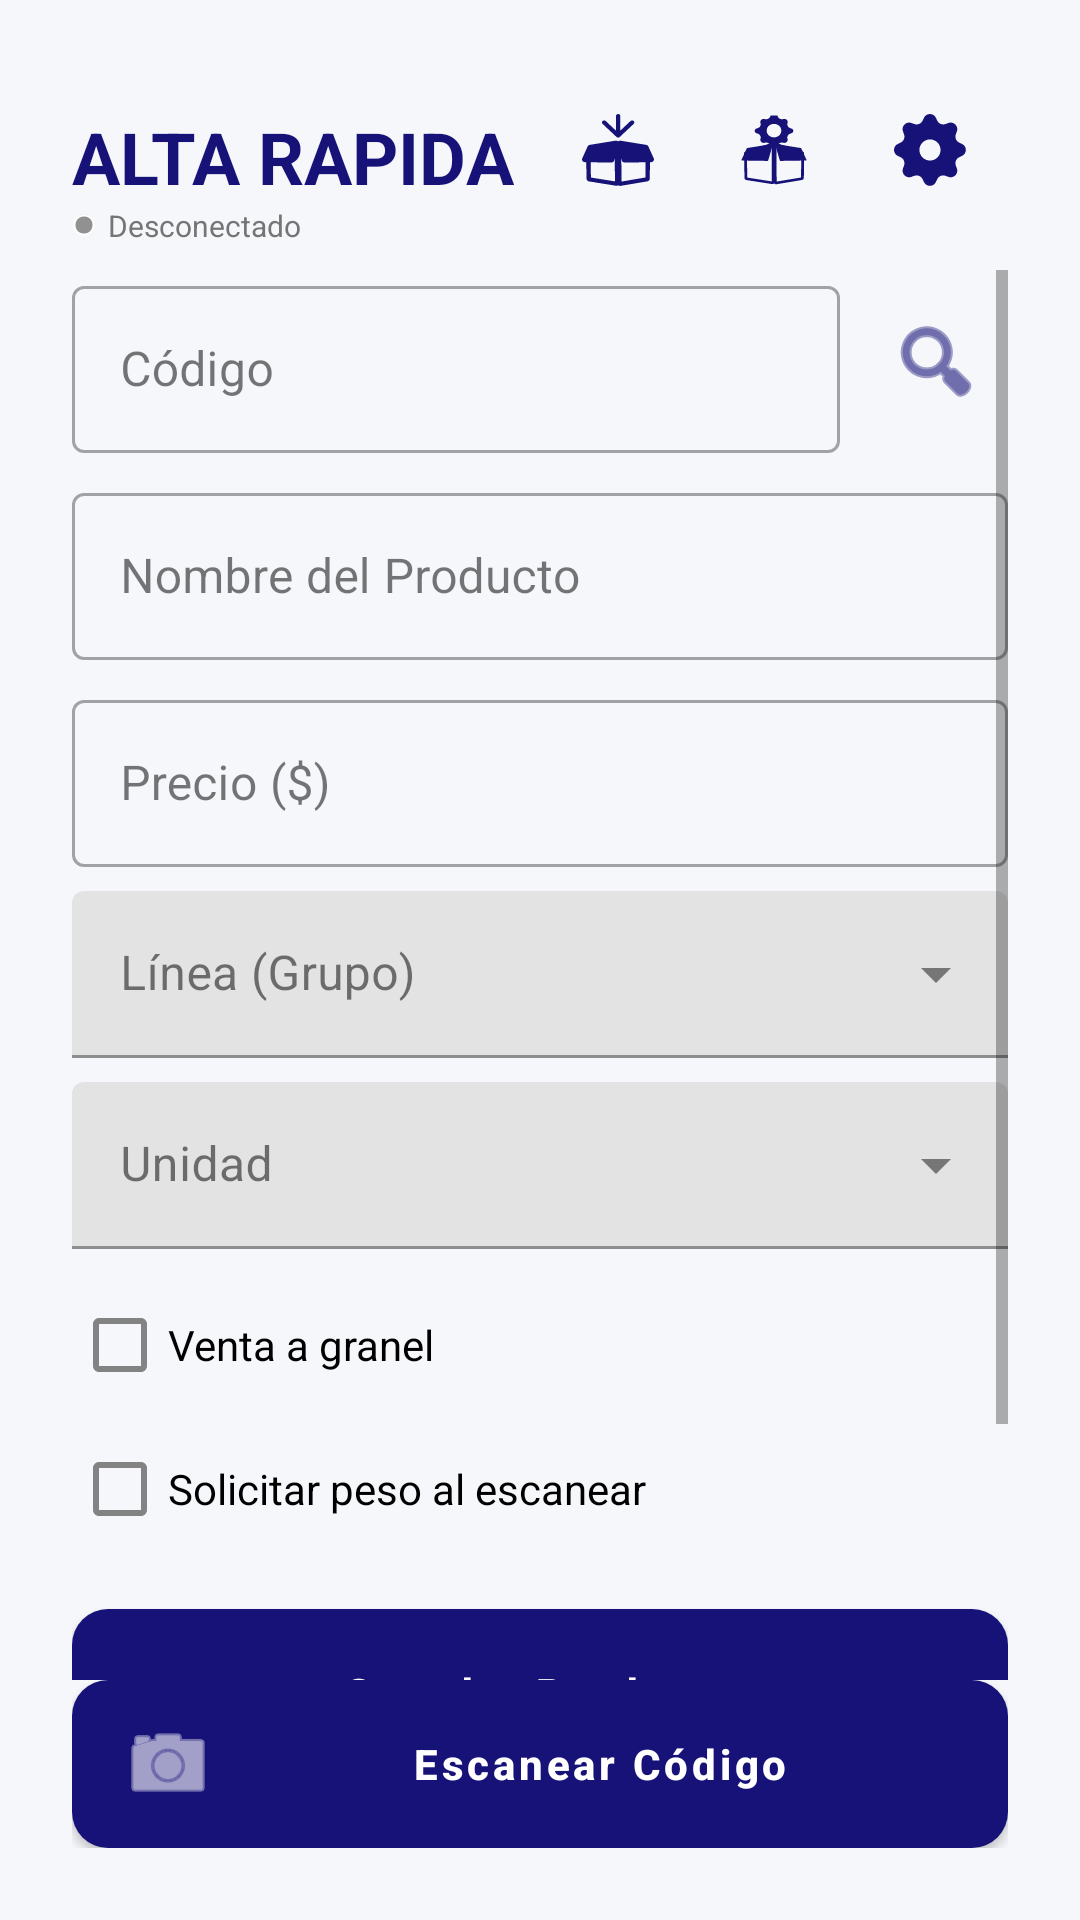

Icon click points for this 1080x1920 phone screenshot, format (x,y):
Auditoría Inventario: (774,150)
Configuración: (930,150)
Generar Pedido: (618,150)
search: (936,361)
